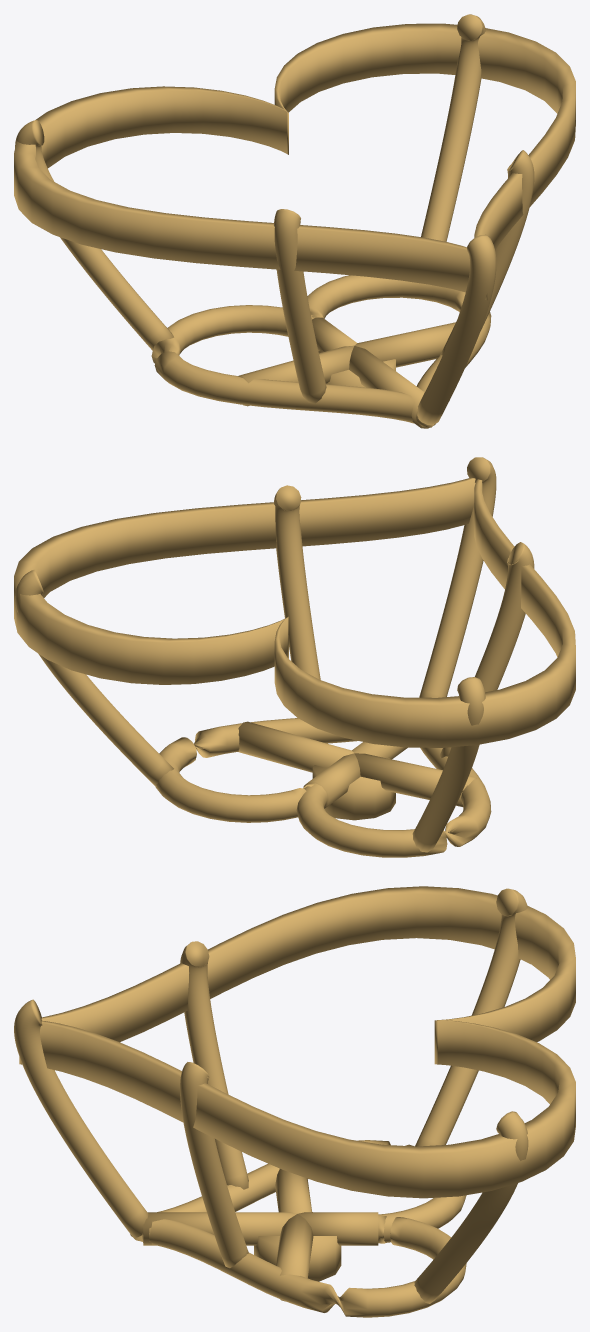
File: stuller-lg-603314-bezel.glb
3 renders of one model, top to bottom at view 1: azimuth 30°, elevation 25°; view 2: azimuth 150°, elevation 25°; view 3: azimuth 270°, elevation 25°, orthographic. The views are drawn at different scales.
Visible parts, largest first — view 1: Metal.336, Metal.331, Metal.337, Metal.341, Metal.339, Metal.338, Metal.332, Metal.340, Metal.335, Metal.334, Metal.333, Metal.330; view 2: Metal.336, Metal.331, Metal.341, Metal.340, Metal.337, Metal.338, Metal.339, Metal.332, Metal.334, Metal.330, Metal.333, Metal.335; view 3: Metal.336, Metal.331, Metal.341, Metal.338, Metal.340, Metal.337, Metal.339, Metal.335, Metal.333, Metal.330, Metal.332, Metal.334.
Boxes of the visible parts, bbox=[...] form: Metal.336: bbox=[14, 23, 575, 299]; Metal.331: bbox=[151, 275, 491, 427]; Metal.337: bbox=[421, 14, 485, 241]; Metal.341: bbox=[417, 234, 496, 424]; Metal.339: bbox=[274, 209, 326, 403]; Metal.338: bbox=[15, 120, 173, 350]; Metal.332: bbox=[355, 322, 455, 367]; Metal.340: bbox=[440, 150, 534, 355]; Metal.335: bbox=[349, 345, 435, 428]; Metal.334: bbox=[238, 345, 353, 406]; Metal.333: bbox=[312, 317, 357, 351]; Metal.330: bbox=[318, 350, 395, 387]; Metal.336: bbox=[14, 477, 575, 747]; Metal.331: bbox=[155, 718, 491, 857]; Metal.341: bbox=[419, 457, 496, 697]; Metal.340: bbox=[274, 485, 320, 679]; Metal.337: bbox=[15, 569, 173, 786]; Metal.338: bbox=[412, 677, 485, 852]; Metal.339: bbox=[439, 542, 534, 757]; Metal.332: bbox=[238, 721, 353, 772]; Metal.334: bbox=[354, 753, 476, 806]; Metal.330: bbox=[312, 757, 395, 820]; Metal.333: bbox=[303, 753, 360, 808]; Metal.335: bbox=[352, 742, 407, 759]; Metal.336: bbox=[19, 886, 575, 1198]; Metal.331: bbox=[130, 1140, 466, 1317]; Metal.341: bbox=[14, 999, 148, 1237]; Metal.338: bbox=[415, 888, 527, 1146]; Metal.340: bbox=[180, 1062, 248, 1268]; Metal.337: bbox=[414, 1111, 528, 1303]; Metal.339: bbox=[180, 941, 248, 1189]; Metal.335: bbox=[143, 1212, 297, 1245]; Metal.333: bbox=[298, 1212, 378, 1245]; Metal.330: bbox=[254, 1212, 341, 1281]; Metal.332: bbox=[276, 1214, 313, 1301]; Metal.334: bbox=[275, 1169, 311, 1213].
Size of the model in its own units: 8.72 by 4.02 by 7.72.
